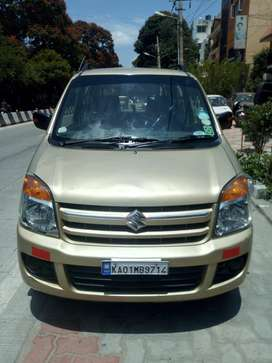KA01MB9714: (100, 261, 168, 275)
